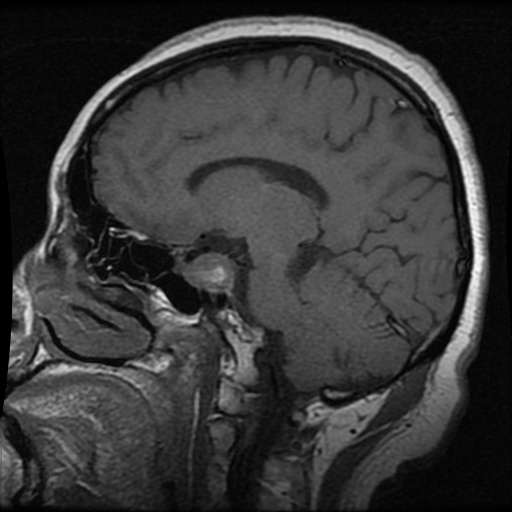pituitary: (178, 255, 235, 293)
